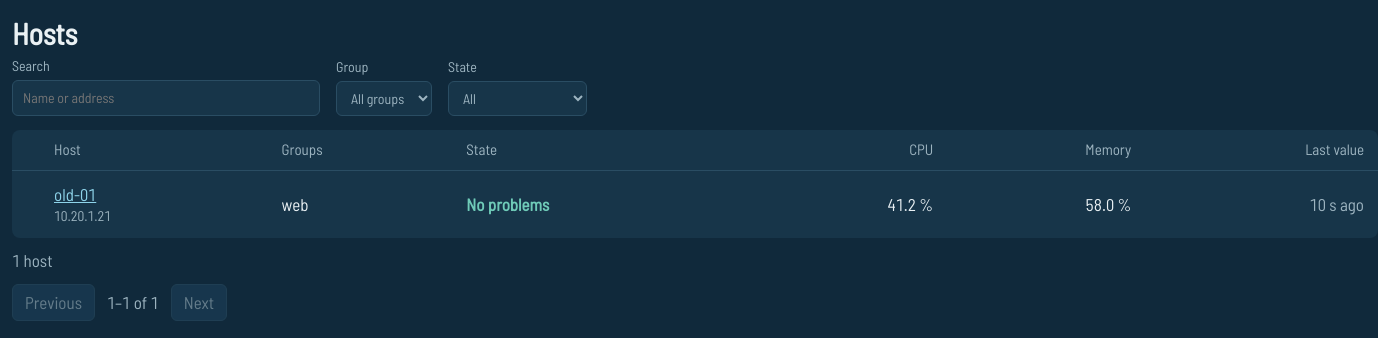
Test: failure and change of query › dims the old rows until the answer for a new filter arrives
The width and height of the screenshot is (1378, 338).
Later steps or results of the test are not shown.
Select "With problems" in the dropdown labelled "State": (518, 99) [448,81,587,116]
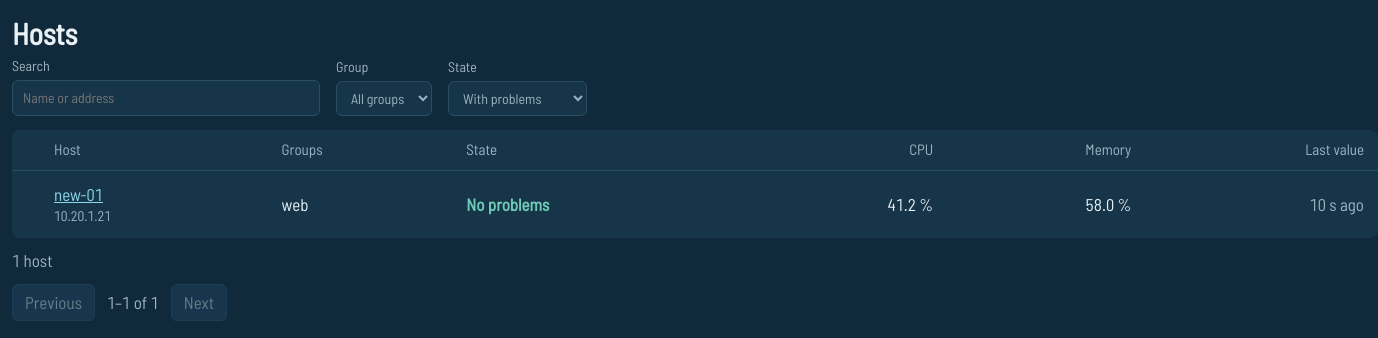
Check: the link "new-01" is shown, box [54,184,103,204]
